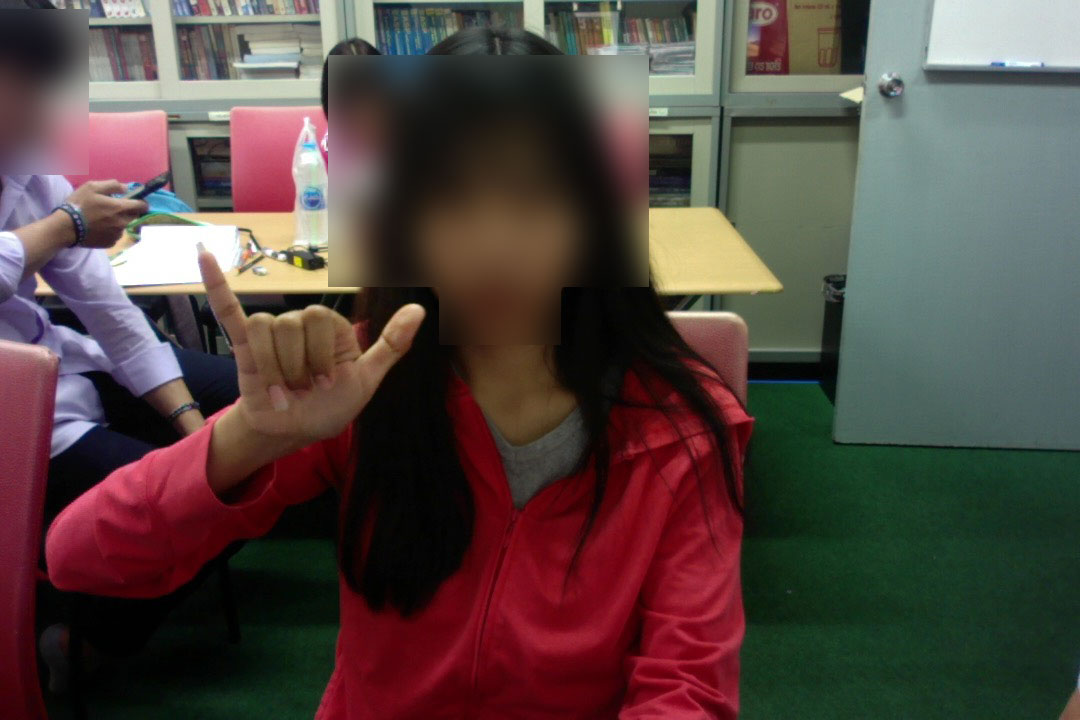yor: (182, 243, 431, 460)
